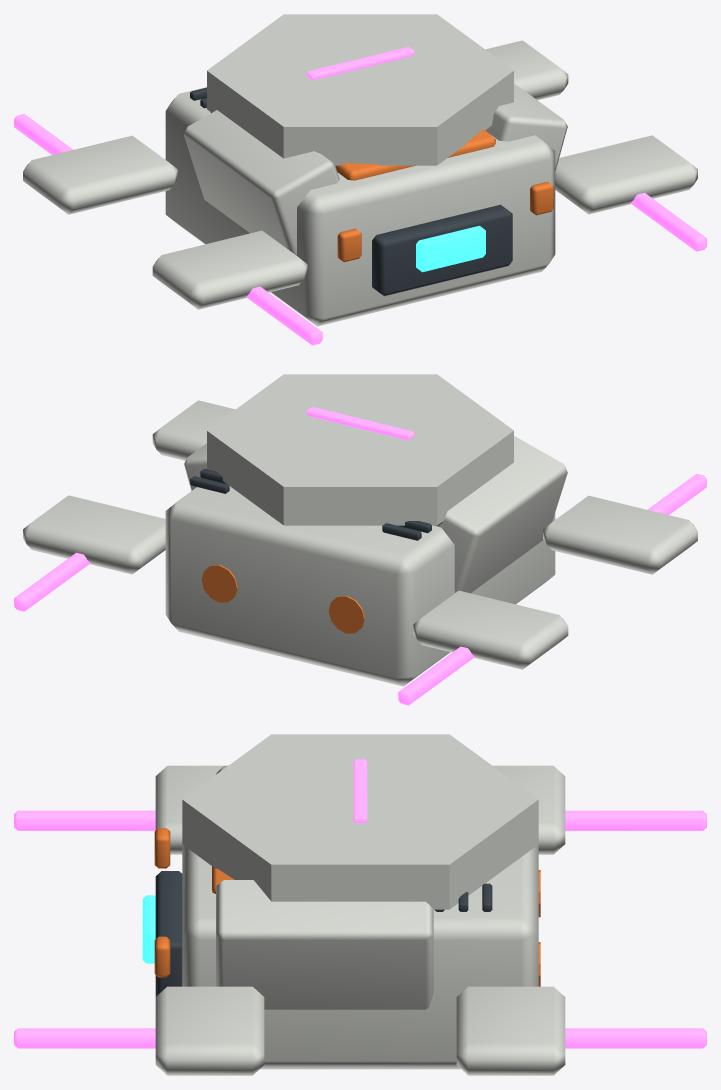
The model's file is VXDR_JAMMER_v002_DRONE.fbx.
3 renders of one model, top to bottom at view 1: azimuth 30°, elevation 25°; view 2: azimuth 150°, elevation 25°; view 3: azimuth 270°, elevation 25°, orthographic. The views are drawn at different scales.
Visible parts, largest first — view 1: Hexagonal resonator, Armored sensor shell, Sloped cheek armor, Foldable stabilizer.001, Foldable stabilizer, Foldable stabilizer.002, Sensor recess, Sloped cheek armor.001, Foldable stabilizer.003, Optical sensor, Jamming aerial, Jamming aerial.002 (+5 smaller); view 2: Armored sensor shell, Hexagonal resonator, Sloped cheek armor, Foldable stabilizer, Foldable stabilizer.001, Foldable stabilizer.003, Foldable stabilizer.002, Jamming aerial.001, Jamming aerial.003, Resonator light, Dock contact, Dock contact.001 (+2 smaller); view 3: Hexagonal resonator, Armored sensor shell, Sloped cheek armor.001, Foldable stabilizer.002, Foldable stabilizer.003, Foldable stabilizer.001, Jamming aerial.002, Jamming aerial.003, Jamming aerial, Jamming aerial.001, Foldable stabilizer, Sensor recess (+4 smaller).
Boxes of the visible parts, x1,y1,x2,y2 form: Hexagonal resonator: [207, 14, 513, 165]; Armored sensor shell: [165, 87, 555, 326]; Sloped cheek armor: [184, 110, 339, 255]; Foldable stabilizer.001: [23, 135, 177, 214]; Foldable stabilizer: [152, 230, 307, 309]; Foldable stabilizer.002: [555, 135, 697, 214]; Sensor recess: [372, 204, 512, 296]; Sloped cheek armor.001: [486, 83, 567, 170]; Foldable stabilizer.003: [485, 40, 568, 100]; Optical sensor: [416, 225, 485, 272]; Jamming aerial: [246, 286, 322, 345]; Jamming aerial.002: [631, 192, 706, 251]; Armored sensor shell: [165, 486, 555, 686]; Hexagonal resonator: [207, 374, 513, 525]; Sloped cheek armor: [434, 436, 567, 593]; Foldable stabilizer: [543, 495, 697, 574]; Foldable stabilizer.001: [413, 590, 568, 669]; Foldable stabilizer.003: [23, 495, 165, 574]; Foldable stabilizer.002: [152, 400, 235, 460]; Jamming aerial.001: [398, 646, 474, 705]; Jamming aerial.003: [14, 552, 89, 611]; Resonator light: [306, 407, 414, 440]; Dock contact: [328, 596, 364, 633]; Dock contact.001: [201, 565, 237, 602]; Hexagonal resonator: [182, 734, 538, 909]; Armored sensor shell: [182, 844, 538, 1069]; Sloped cheek armor.001: [216, 880, 433, 1009]; Foldable stabilizer.002: [155, 986, 264, 1075]; Foldable stabilizer.003: [456, 986, 565, 1075]; Foldable stabilizer.001: [493, 765, 565, 854]; Jamming aerial.002: [14, 1028, 155, 1048]; Jamming aerial.003: [565, 1028, 706, 1048]; Jamming aerial: [14, 810, 155, 830]; Jamming aerial.001: [565, 810, 706, 830]; Foldable stabilizer: [155, 765, 223, 854]; Sensor recess: [155, 871, 182, 996].
Bounding box in the file's own units: 34.4 × 12.15 × 35.
